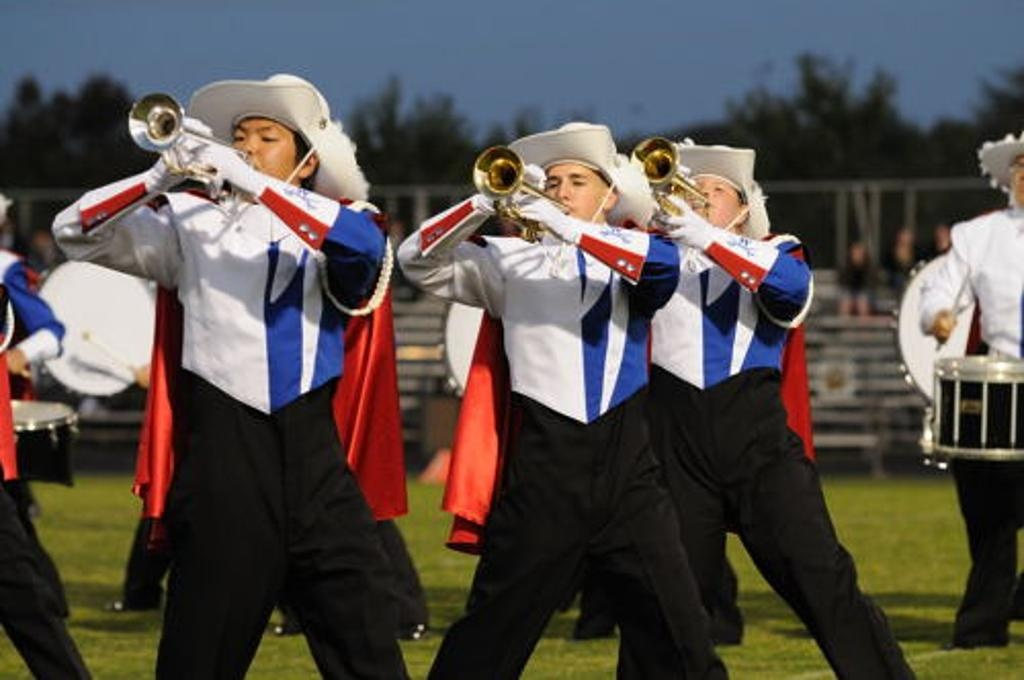human_face: (232, 109, 298, 199), (540, 155, 602, 236), (681, 167, 737, 241)
